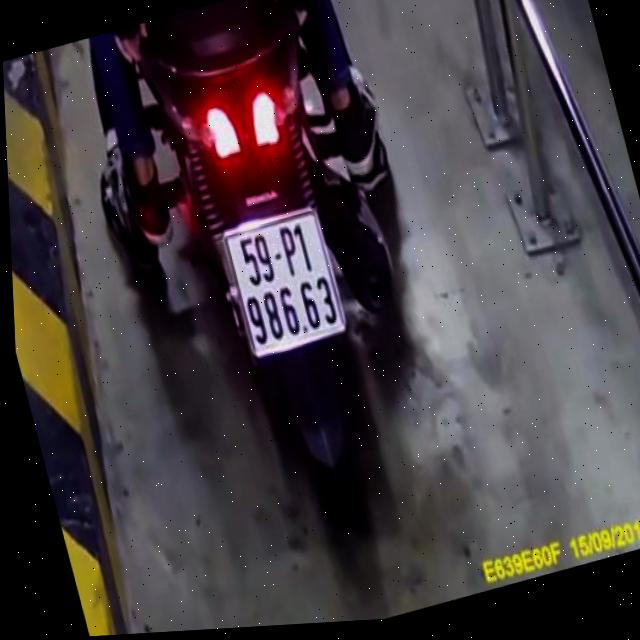motorcycle: (102, 0, 454, 552)
plate: (209, 199, 353, 369)
